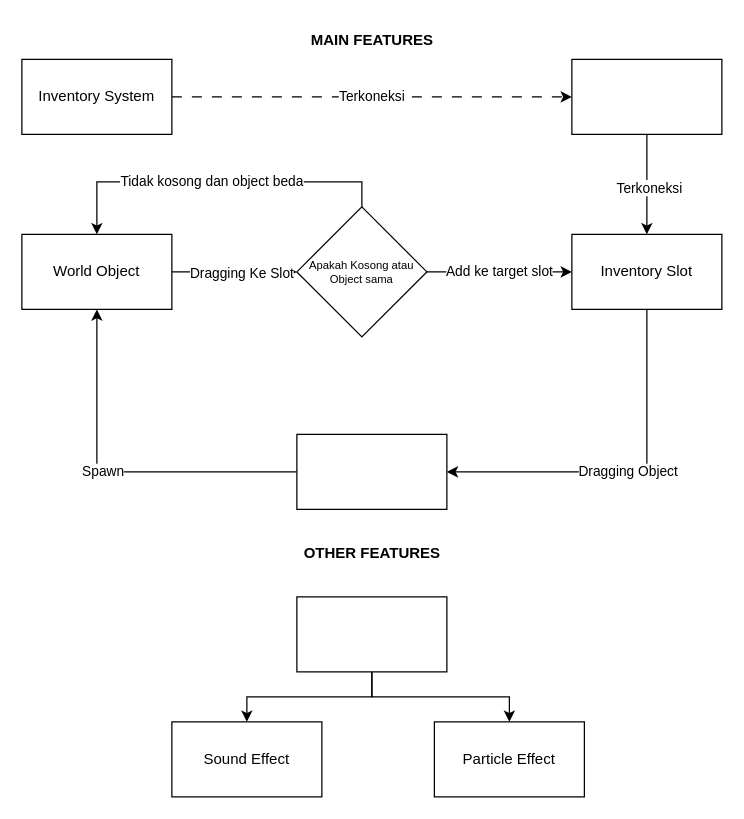
The diagram is 744 pixels wide and 819 high, and some of its shapes have lost their labels. The shapes that lost their labels are listed below. From the top down, each one's centre as x and y in pixels, then its label:
[646,96]: HUD Inventory
[371,471]: DropPoint
[371,634]: Base Effect
